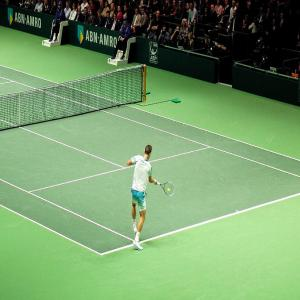TennisBall: (168, 189, 171, 192)
